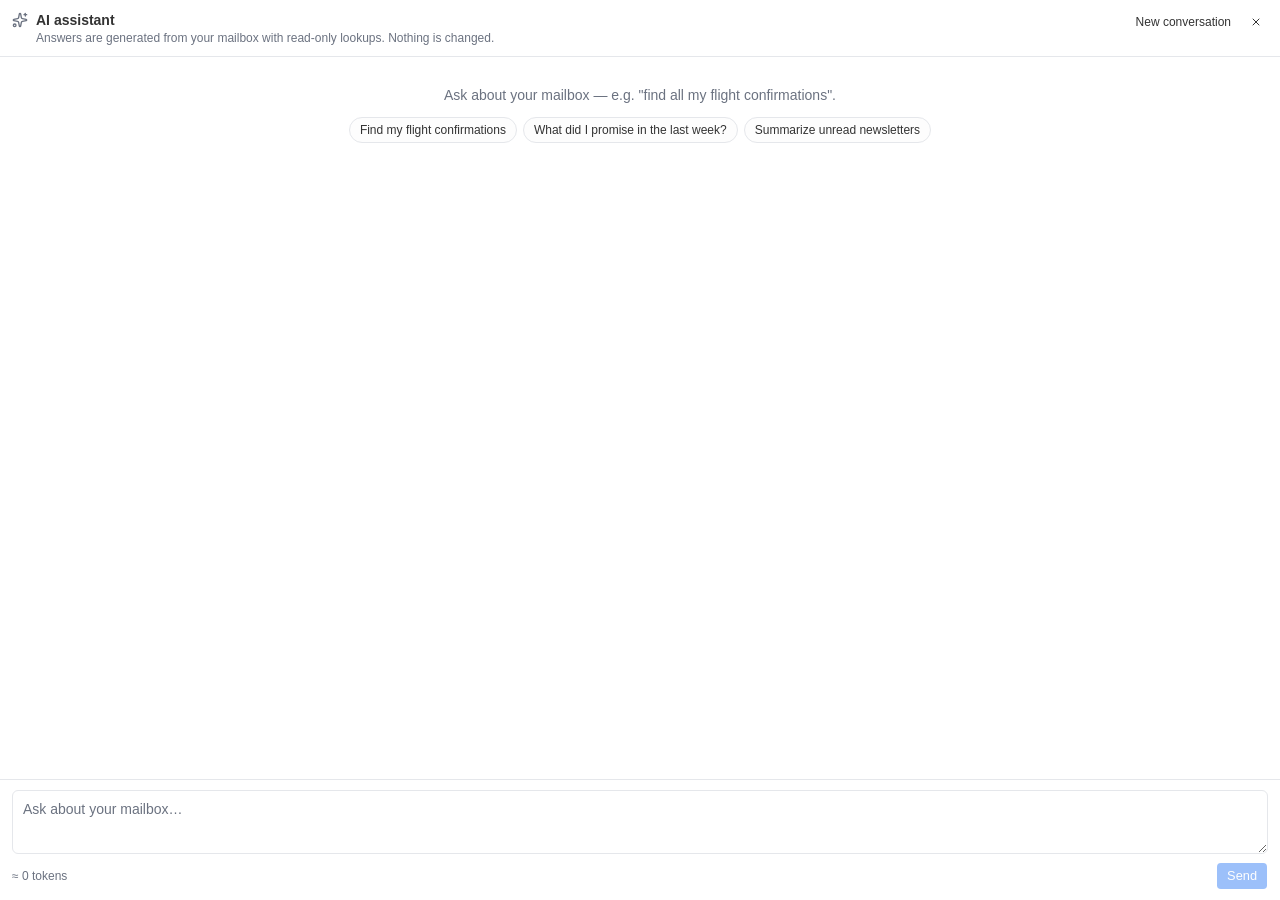
Test case: AssistantPanel empty state (spec: empty-state guidance) › activating a prompt chip sends it as the user message
The image size is (1280, 900).
Click the button with test id "assistant-prompt-chip" showing "Find my flight confirmations" at (433, 130), box [349,117,517,143]
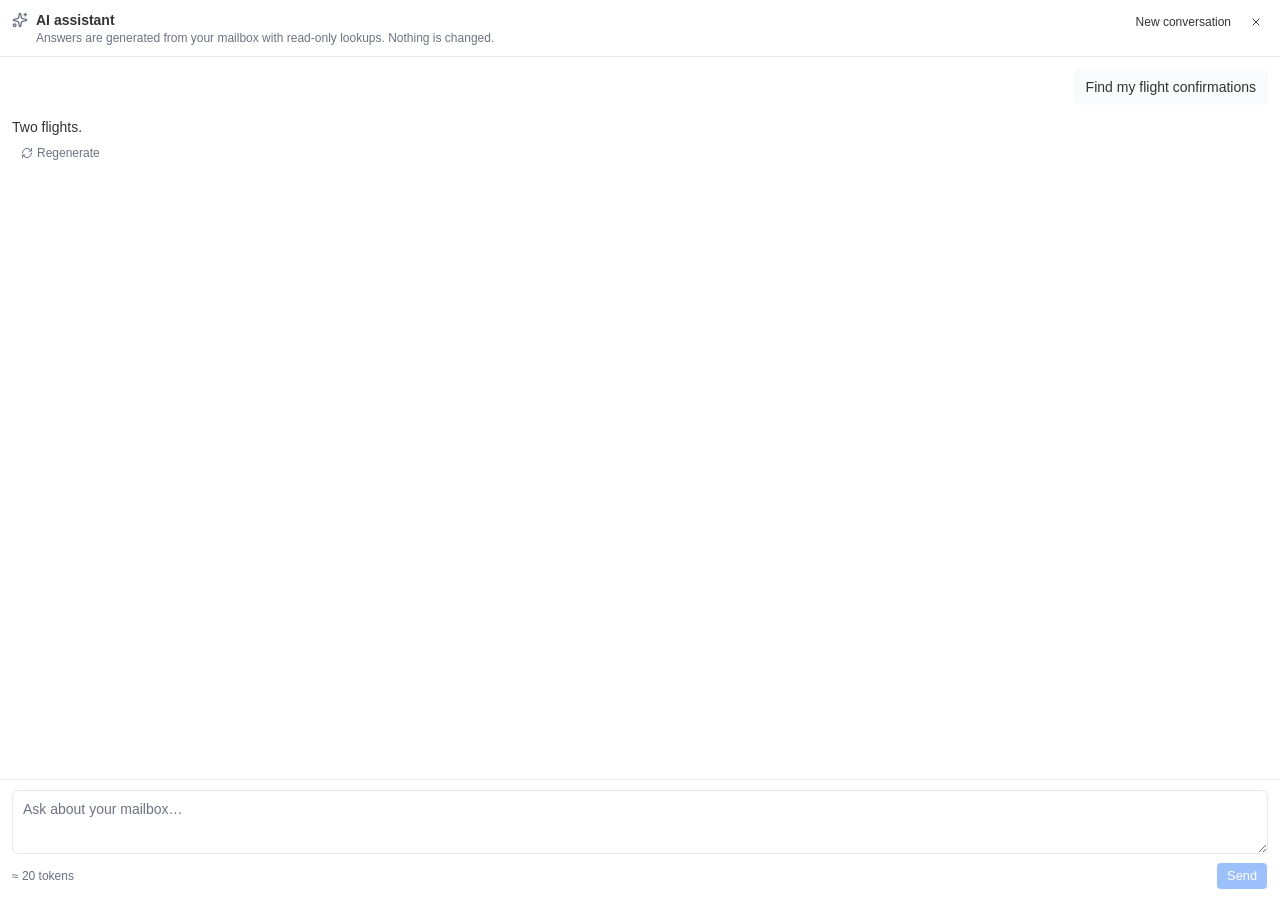
Expected: the text with test id "assistant-answer-turn" reads "Two flights.", [12,119,82,135]
